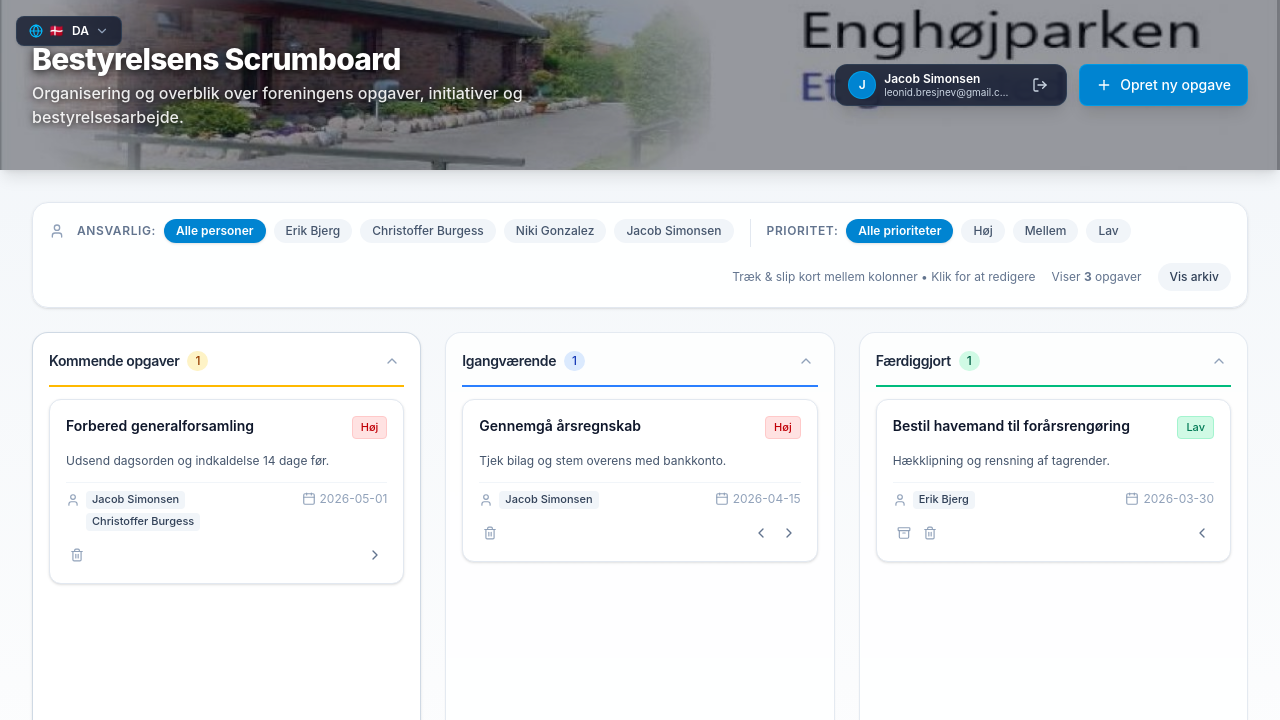
Scrumboard Tests with Mock Data › opens confirmation dialog when clicking delete card icon and allows deleting upon confirmation
Expected: the heading "Bestil havemand til forårsrengøring" is shown, left=893, top=416, right=1169, bottom=435
// Click delete on the 3rd card - should open confirmation dialog
Click the button titled "Slet opgave" below "2026-03-30" at (930, 533), box left=919, top=522, right=941, bottom=544
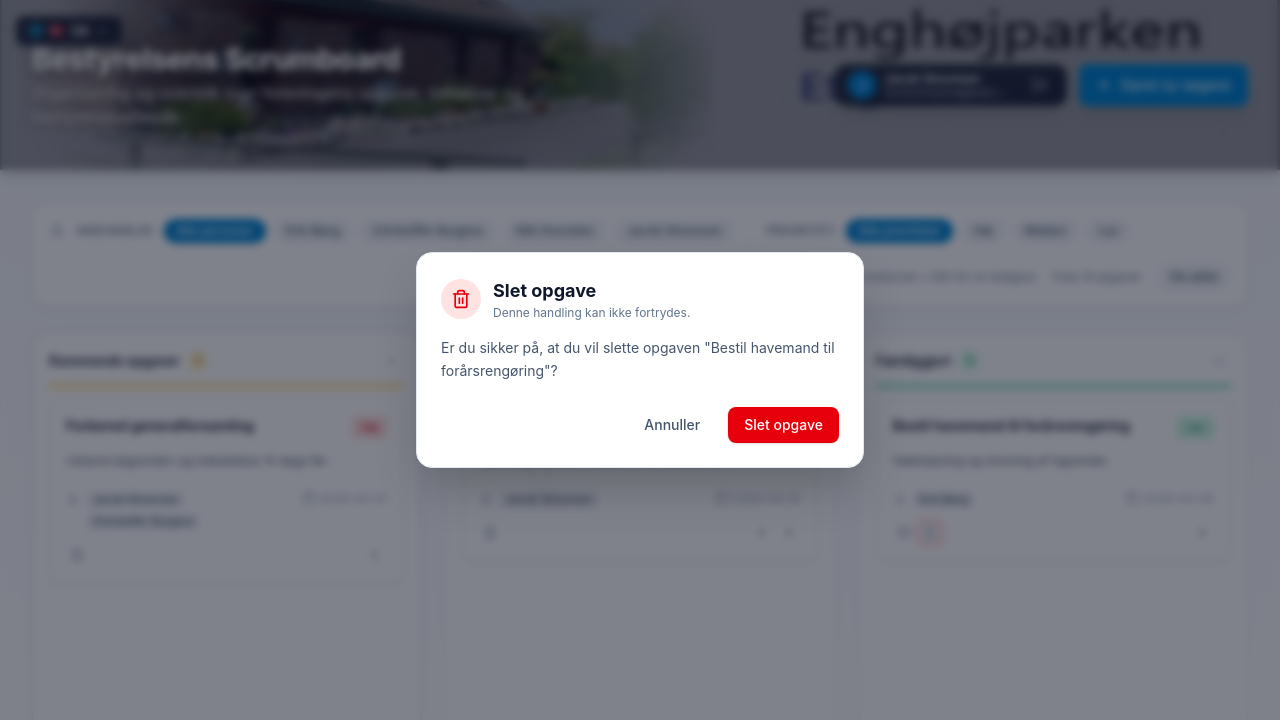
Now the dialog is shown
Now the text "\"Bestil havemand til forårsrengøring\"" is shown, box left=441, top=339, right=835, bottom=379
// Test cancellation first: click "Annuller"
Click the button "Annuller" at (672, 425), box left=628, top=407, right=716, bottom=443
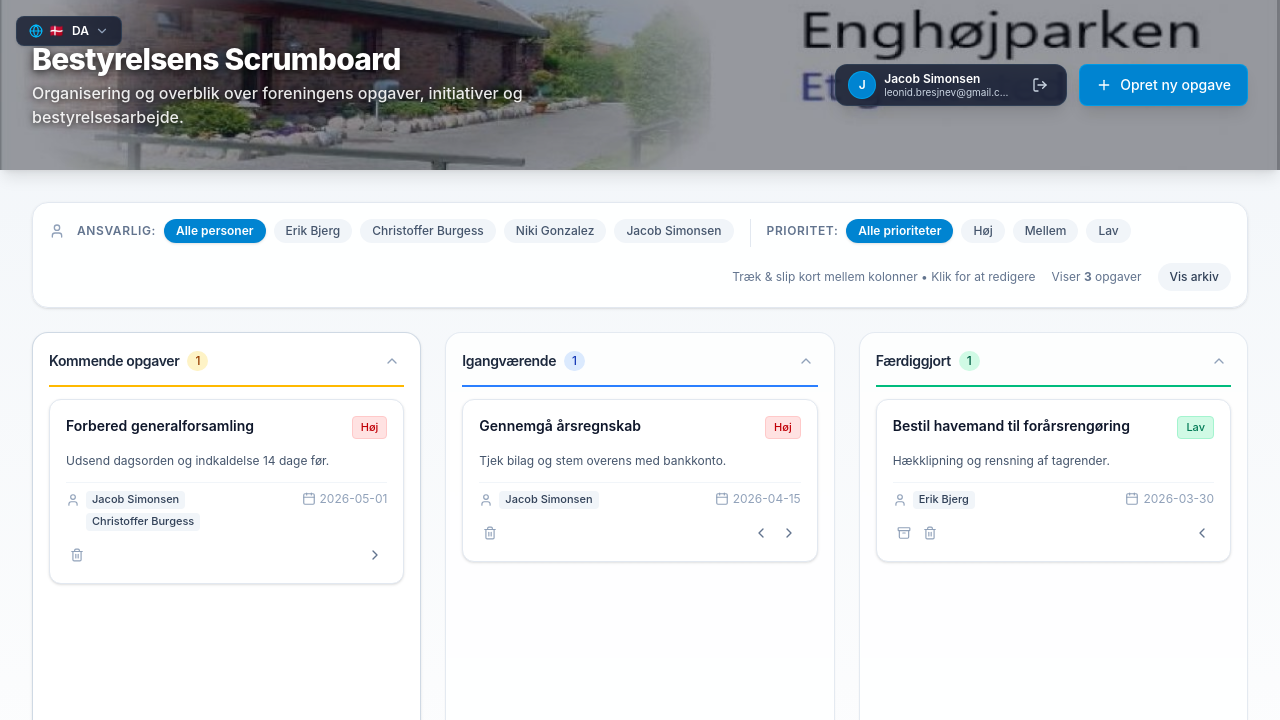
Expected: the heading "Bestil havemand til forårsrengøring" is shown, left=893, top=416, right=1169, bottom=435
Now the dialog is gone
// Click delete again and confirm deletion
Click the button titled "Slet opgave" below "2026-03-30" at (930, 533), box left=919, top=522, right=941, bottom=544
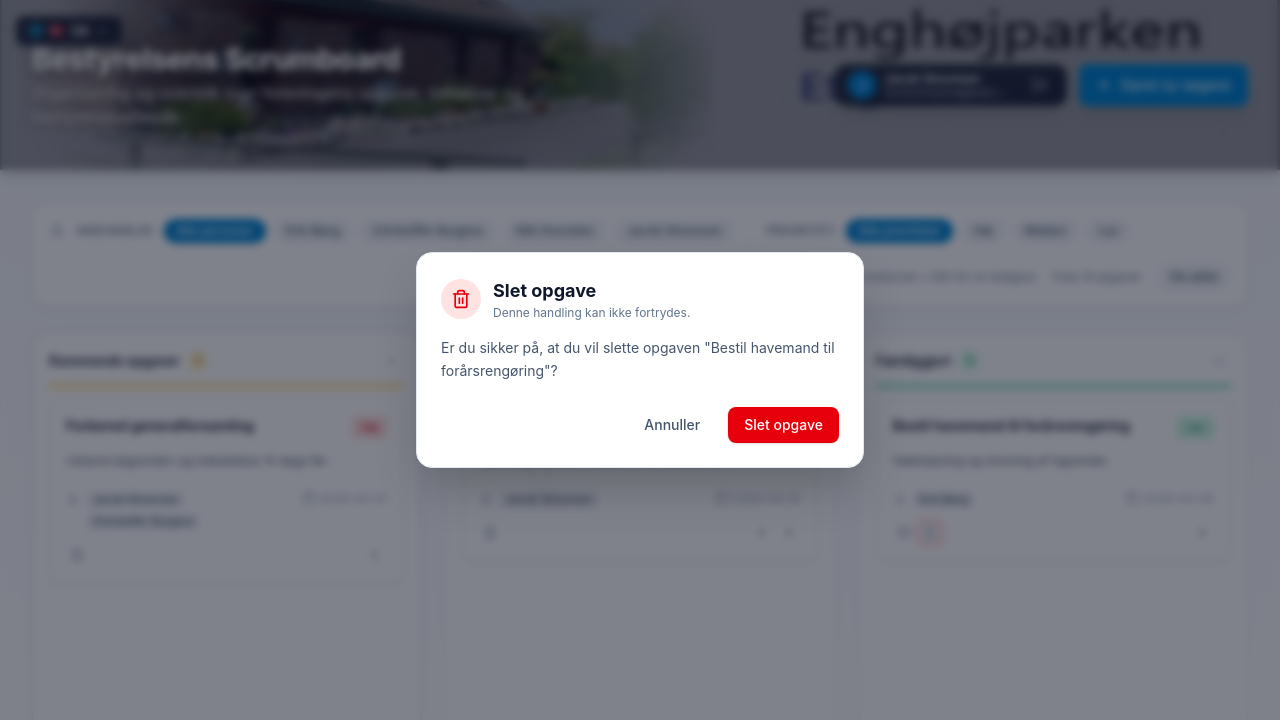
Click the button "Slet opgave" at (784, 425), box left=728, top=407, right=839, bottom=443
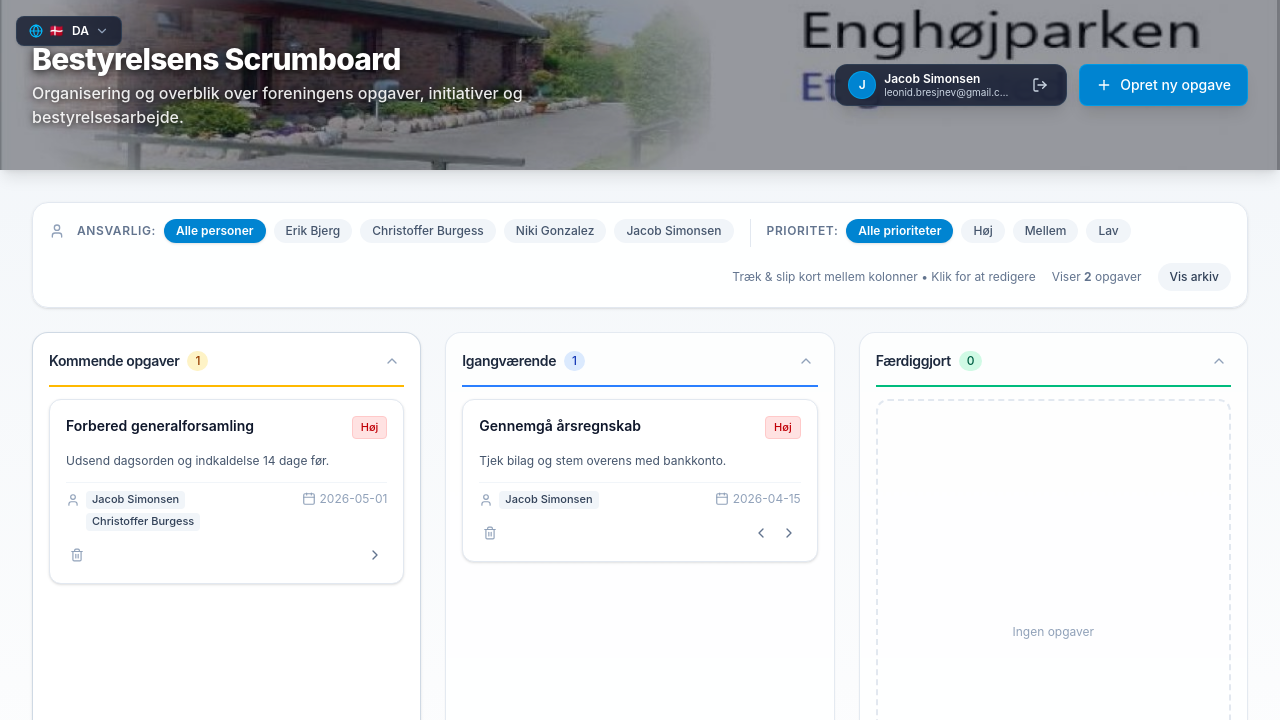
Now the heading "Bestil havemand til forårsrengøring" is gone
Now the text "2" is shown, box left=1084, top=269, right=1092, bottom=284
